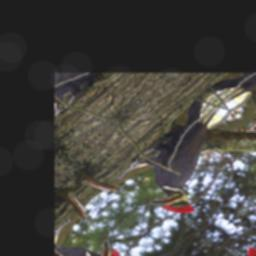Woodpecker: (102, 91, 256, 226)
